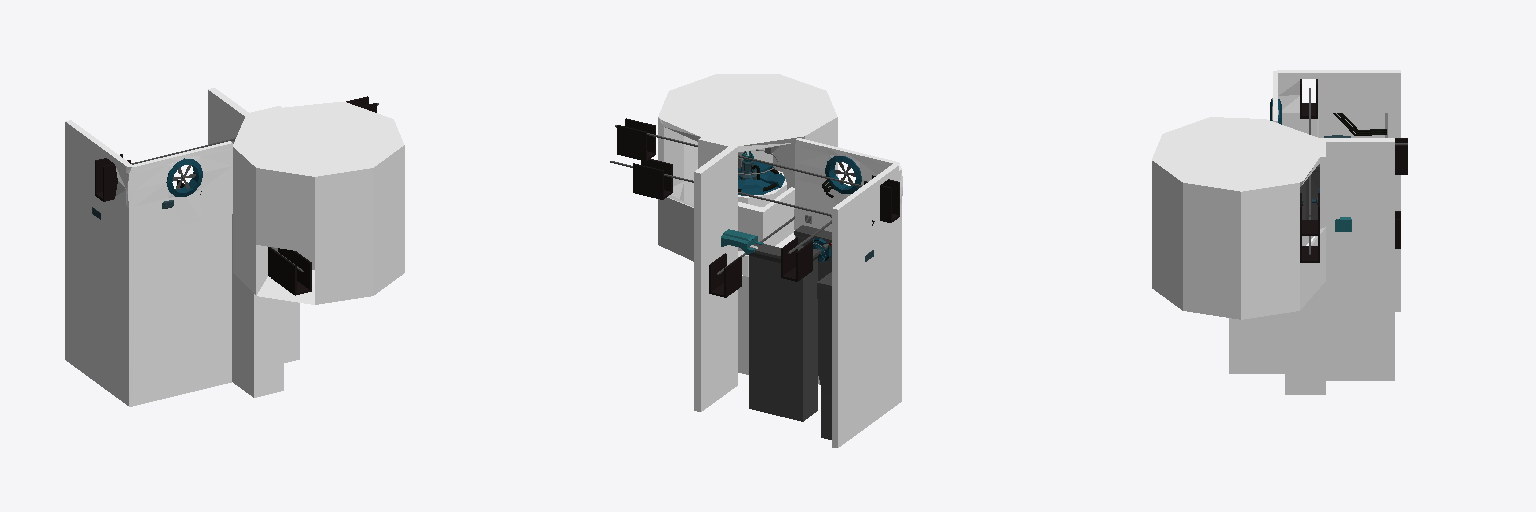
File: cargoRoom_v3.obj
3 views of the same model, side by side, from view 1: azimuth 30°, elevation 25°; view 2: azimuth 150°, elevation 25°; view 3: azimuth 270°, elevation 25° (orthographic).
Visible parts, largest first — view 1: walls_removed, tram_door_2_1, tram_door_3_1, fanWall; view 2: walls_removed, platform_1, platform_2, tram_door_1_1, tram_door_3_2, tram_door_2_2, tram_door_1_3, tram_door_3_1, reactor_room reactorRoom:pSphere1 reactorRoom:floorBase, fanWall, entrance_wall; view 3: walls_removed, platform_2.
Boxes of the visible parts, x1,y1,x2,y2 form: walls_removed: [65, 88, 404, 406]; tram_door_2_1: [268, 247, 311, 295]; tram_door_3_1: [95, 154, 130, 201]; fanWall: [166, 158, 202, 196]; walls_removed: [658, 74, 902, 447]; platform_1: [748, 244, 820, 421]; platform_2: [794, 225, 831, 439]; tram_door_1_1: [633, 159, 672, 199]; tram_door_3_2: [617, 118, 655, 161]; tram_door_2_2: [709, 253, 741, 297]; tram_door_1_3: [781, 237, 812, 281]; tram_door_3_1: [864, 175, 899, 222]; reactor_room reactorRoom:pSphere1 reactorRoom:floorBase: [738, 161, 784, 195]; fanWall: [825, 156, 861, 193]; entrance_wall: [721, 229, 763, 254]; walls_removed: [1152, 70, 1400, 394]; platform_2: [1300, 164, 1319, 219].
Bounding box in the file's own units: 670 × 550 × 524.